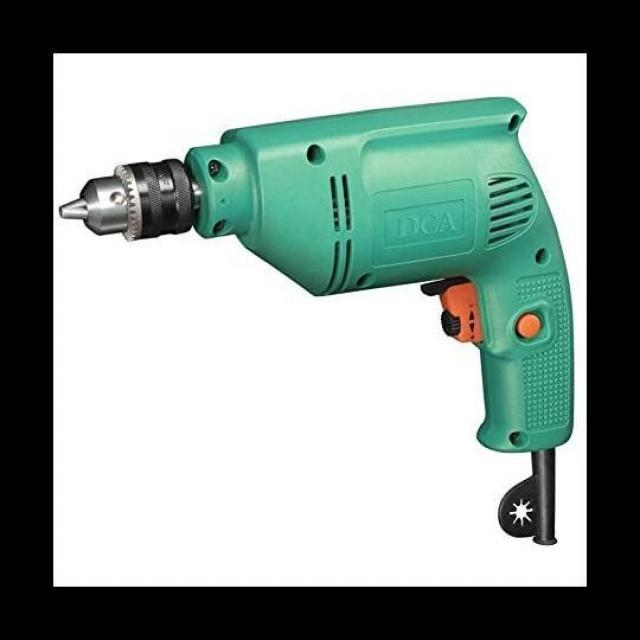drill: (58, 97, 576, 547)
